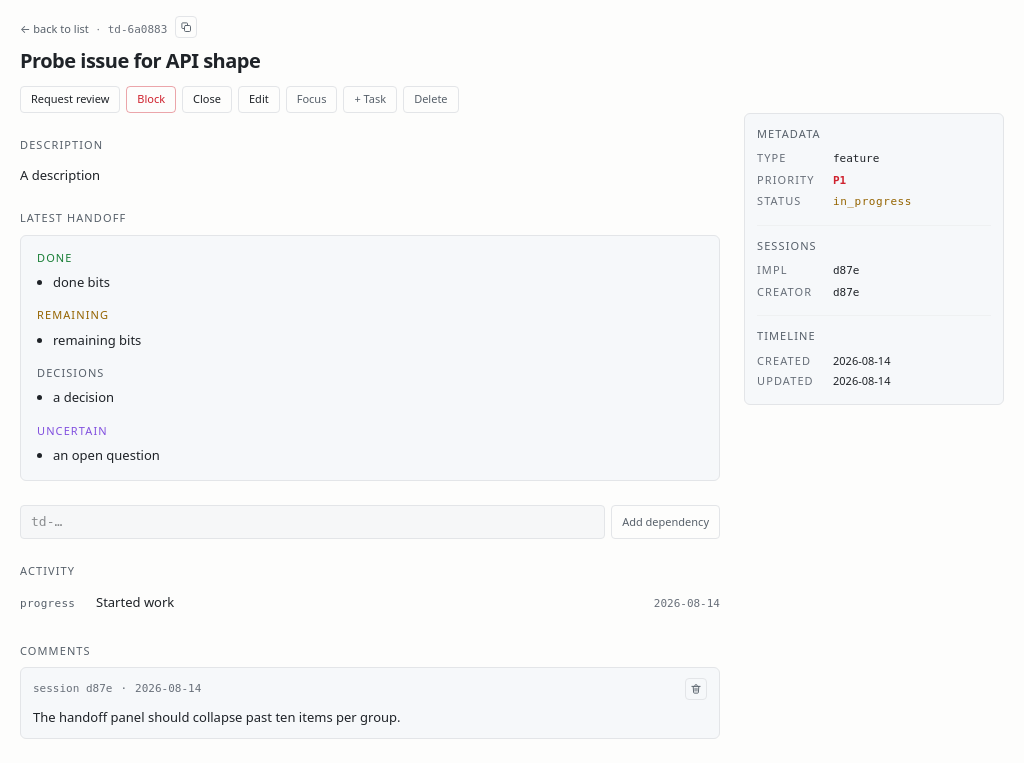
Test: IssueDetail › copies the bare issue id from the id row
Click the button named "Copy issue id": (186, 27) [175,16,197,38]
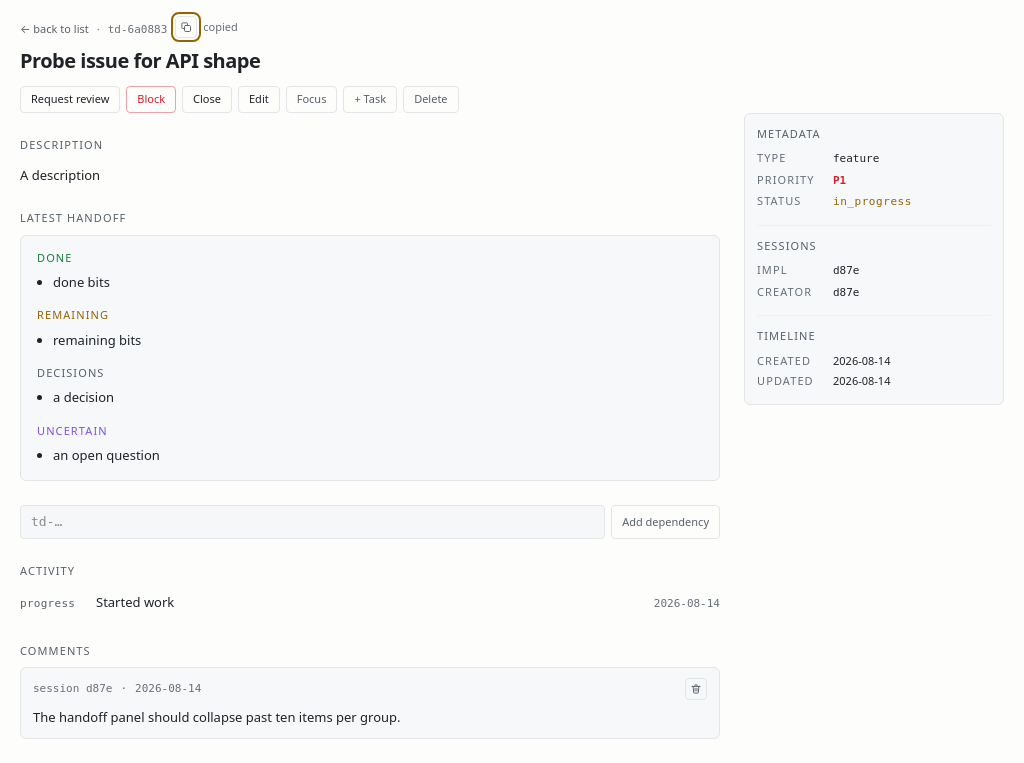
Check: the text "copied" is shown, box [203,19,238,35]
